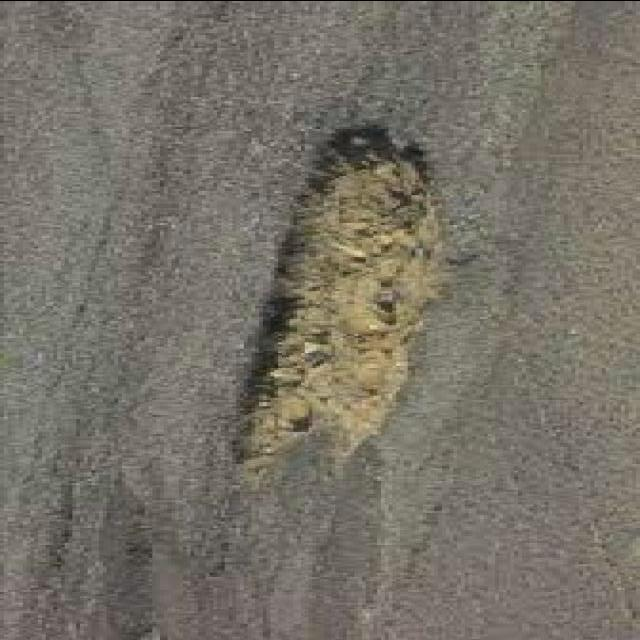pothole: (251, 130, 441, 452)
